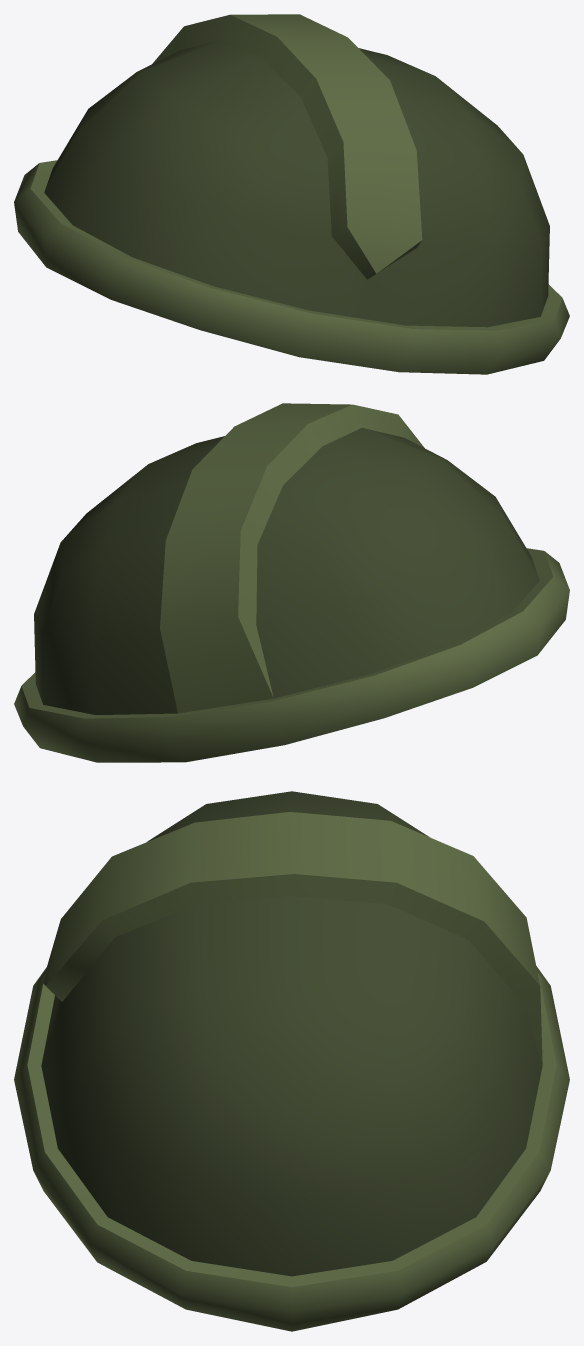
Rendered from militaryShoulderL.fbx.
3 renders of one model, top to bottom at view 1: azimuth 30°, elevation 25°; view 2: azimuth 150°, elevation 25°; view 3: azimuth 270°, elevation 25°, orthographic. The views are drawn at different scales.
Parts seen in each view (by area): view 1: militaryShoulderL; view 2: militaryShoulderL; view 3: militaryShoulderL.
Part boxes in pixels (<box>): militaryShoulderL: <box>14,14,569,374</box>; militaryShoulderL: <box>14,403,569,762</box>; militaryShoulderL: <box>14,791,569,1331</box>.
Size of the model in its own units: 45.99 by 30.15 by 39.38.
